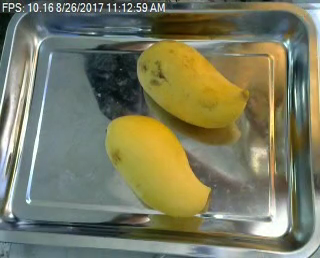Mango: (101, 110, 214, 220), (132, 38, 250, 133)
